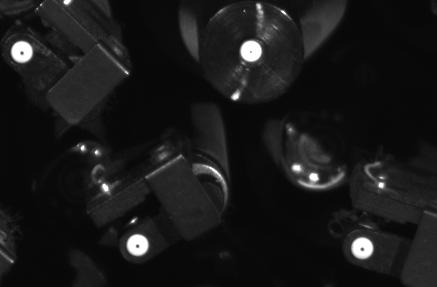fiber: (122, 229, 158, 268), (346, 227, 381, 267), (234, 35, 269, 69), (8, 35, 37, 69)
